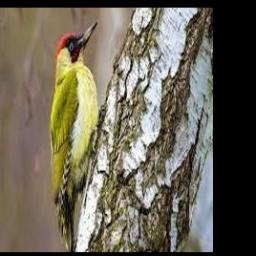Woodpecker: (49, 21, 107, 252)
